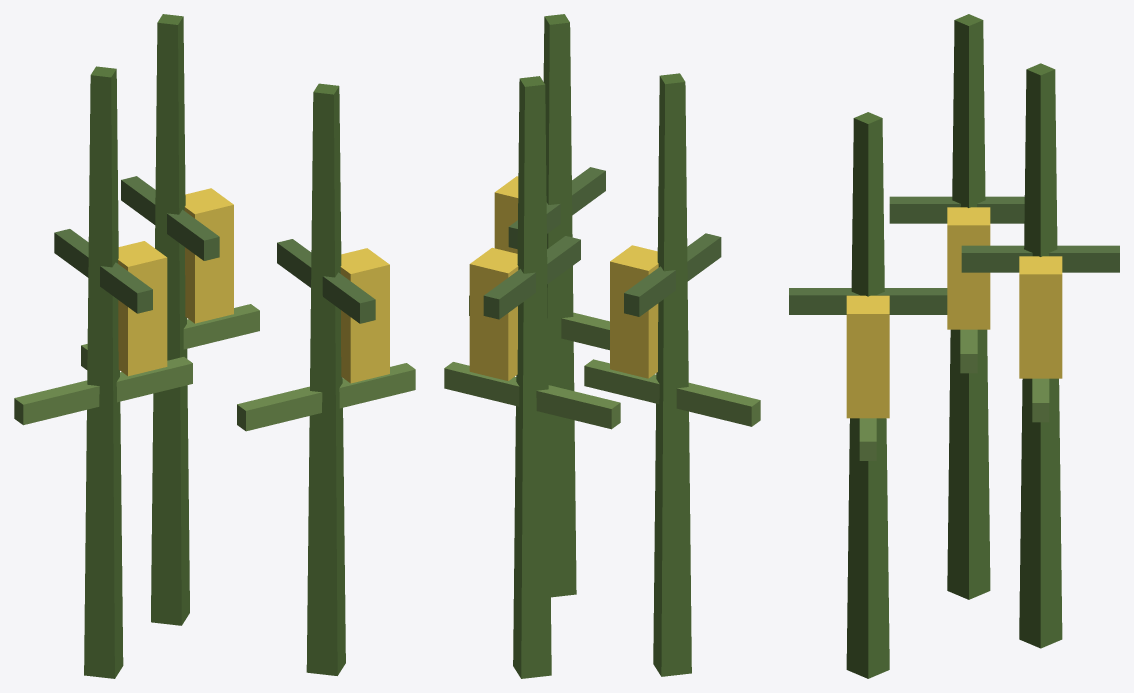
File: corn_2.obj
3 views of the same model, side by side, from view 1: azimuth 30°, elevation 25°; view 2: azimuth 150°, elevation 25°; view 3: azimuth 270°, elevation 25° (orthographic). The views are drawn at different scales.
Visible parts, largest first — view 1: corn_2; view 2: corn_2; view 3: corn_2.
Boxes of the visible parts, x1,y1,x2,y2 form: corn_2: (14, 14, 415, 678); corn_2: (444, 14, 760, 678); corn_2: (789, 14, 1119, 678).
Size of the model in its own units: 0.52 by 0.8757 by 0.46.
